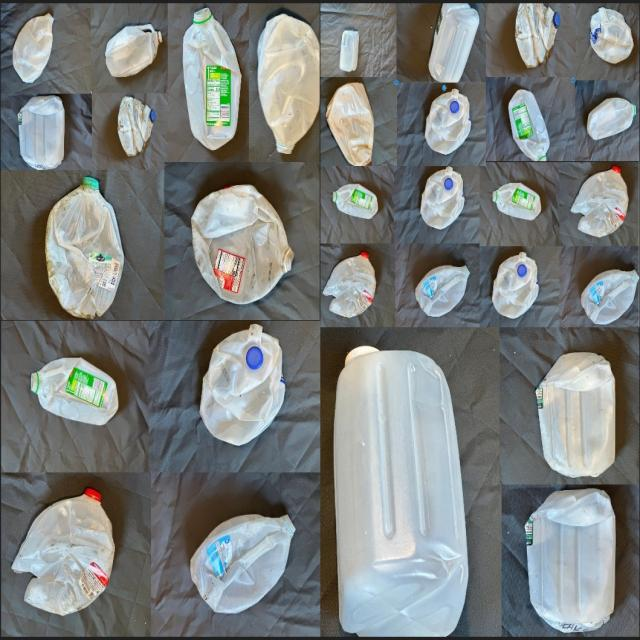milk-jug: (335, 347, 466, 638), (522, 492, 620, 632), (190, 185, 299, 310), (12, 490, 118, 614), (43, 174, 127, 313), (198, 331, 292, 446), (536, 352, 618, 479), (190, 517, 294, 617), (177, 7, 244, 154), (256, 8, 322, 155), (29, 354, 121, 429), (323, 82, 377, 169), (426, 2, 479, 84), (576, 162, 631, 240), (15, 95, 69, 174), (580, 265, 640, 333), (326, 249, 380, 323), (103, 15, 160, 84), (506, 84, 552, 163), (494, 249, 541, 324), (12, 12, 59, 86), (108, 89, 159, 157), (513, 1, 560, 72), (418, 166, 467, 233), (415, 259, 470, 318), (425, 89, 476, 152), (589, 7, 636, 70), (485, 178, 543, 226), (328, 177, 379, 223), (586, 95, 634, 142), (335, 24, 363, 76)
